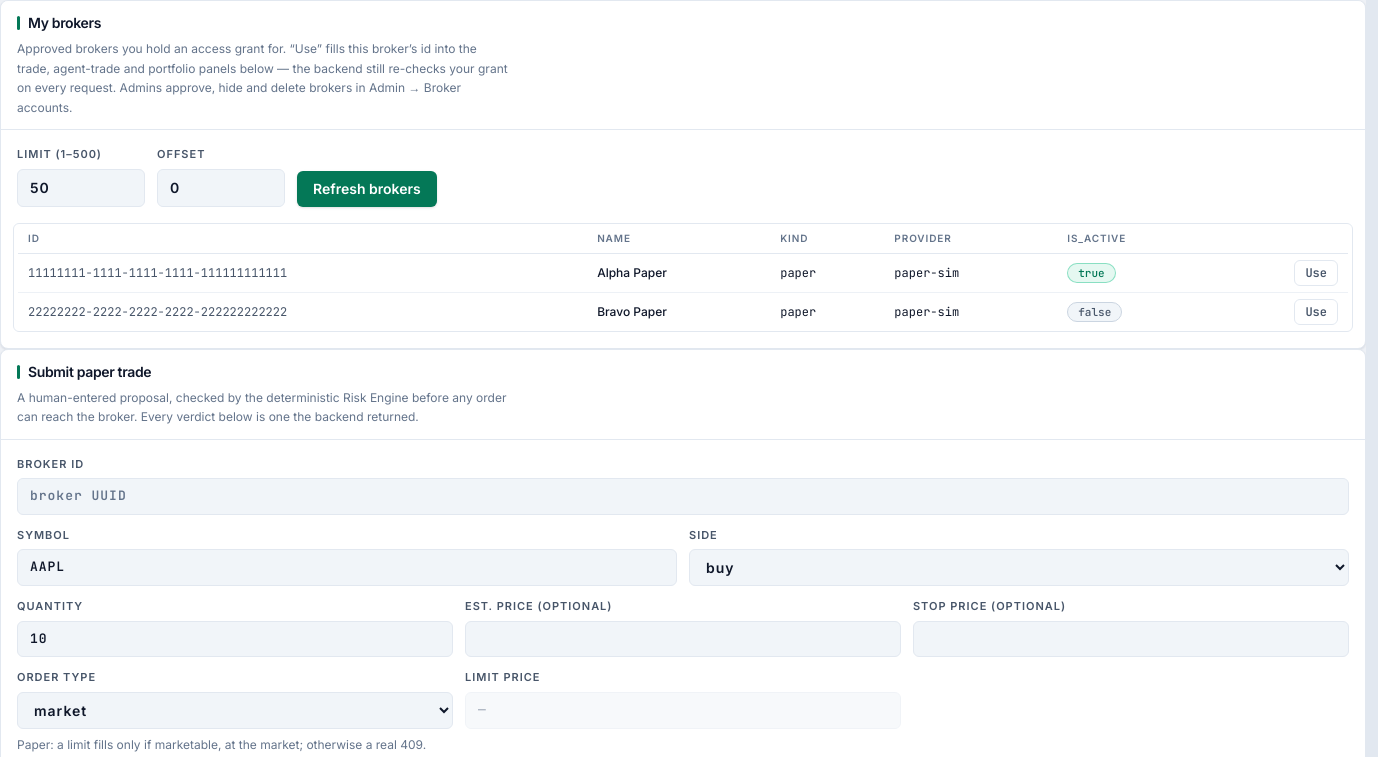
Scenario: BrokerDiscovery › pre-fills the trade form's broker id, end to end
Expected: the text "Alpha Paper" is shown, [587,253,770,292]
Expected: the field labelled "Broker ID" is empty, [17,478,1349,515]
Click the button "Use" in the row of "22222222-2222-2222-2222-222222222222" at (1316, 312), box [1294,299,1338,325]
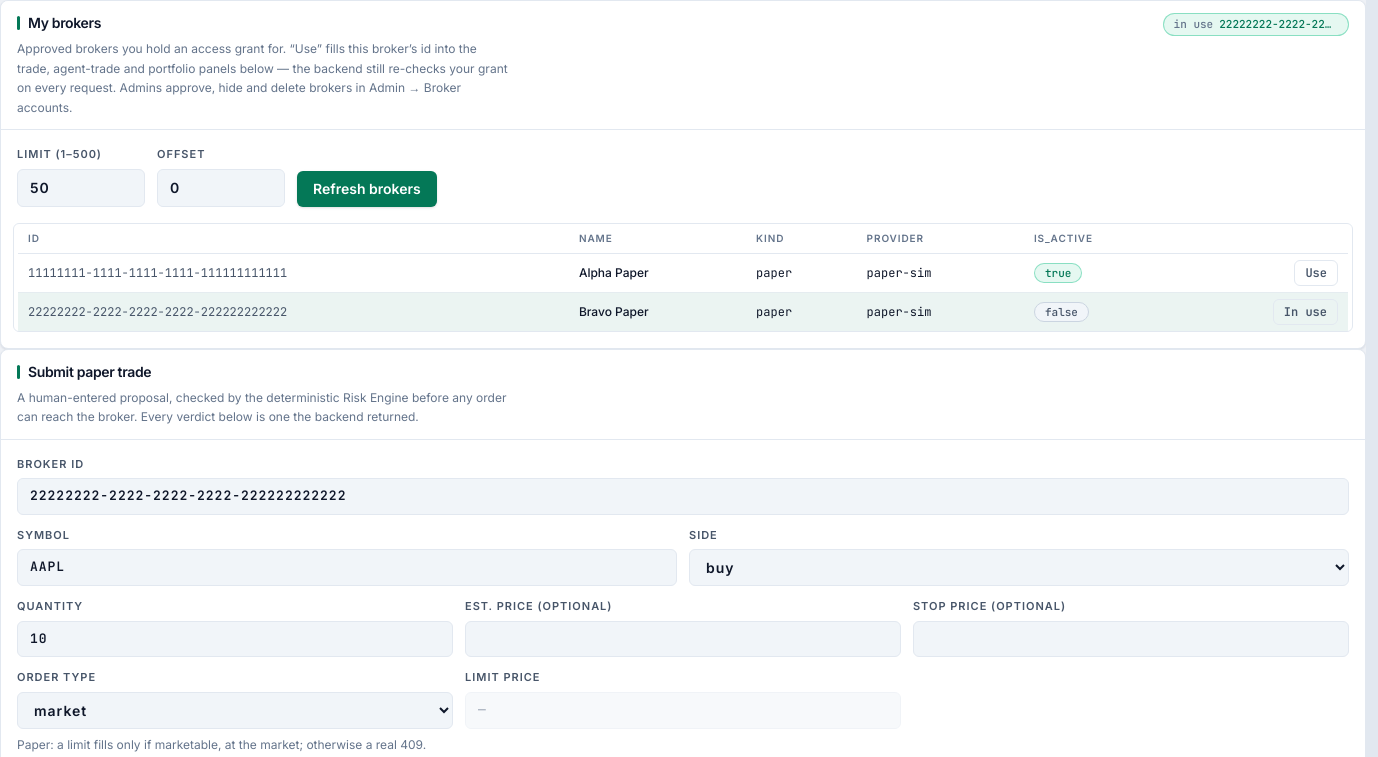
Result: the field labelled "Broker ID" holds "22222222-2222-2222-2222-222222222222" at [17,478,1349,515]
